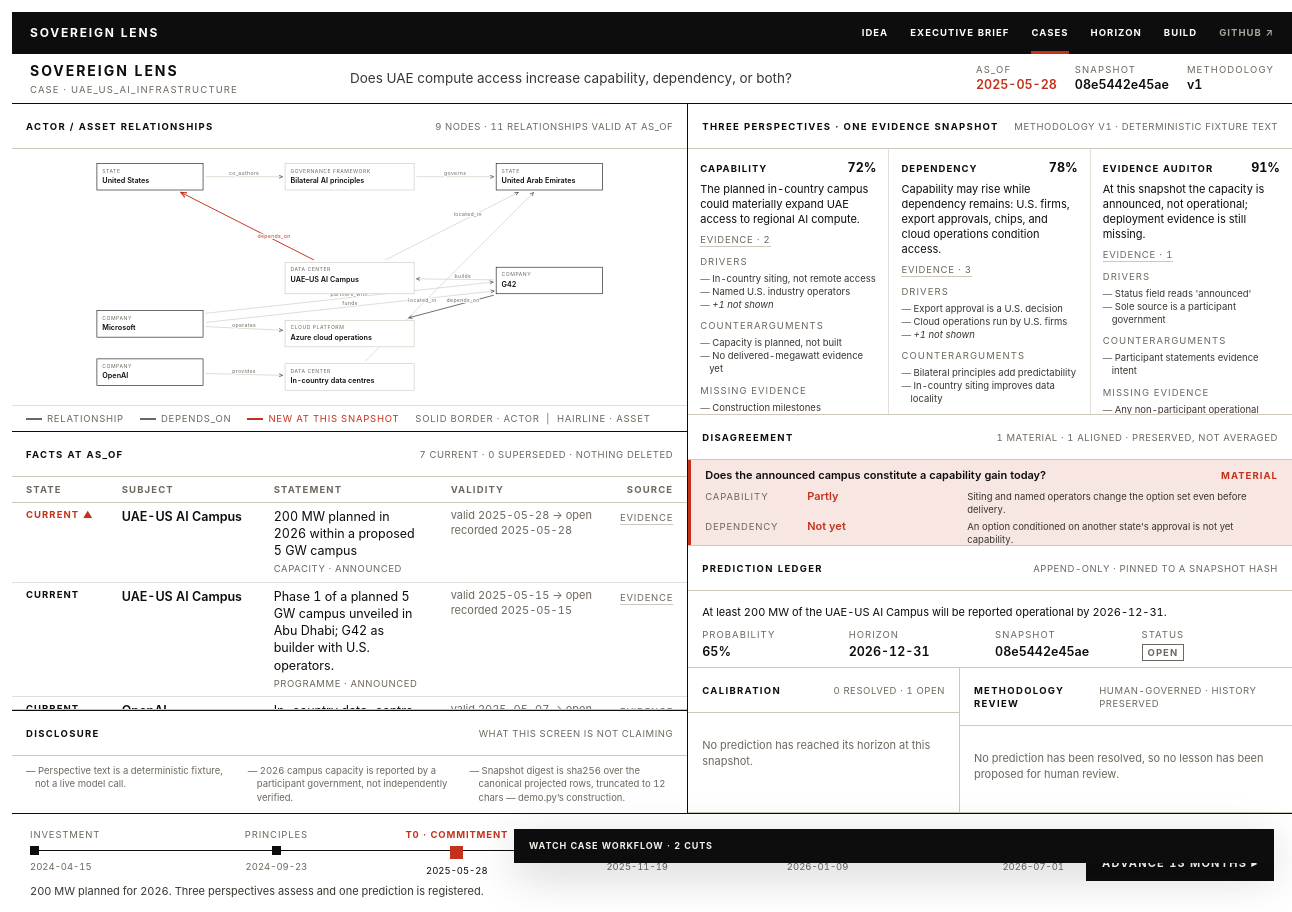
Test: scrubbing › reaches a pre-assessment date where no perspective exists yet
Click the button with aria-label "Set as_of to 2024-09-23" at (276, 853), box x1=210 y1=828 x2=342 y2=877
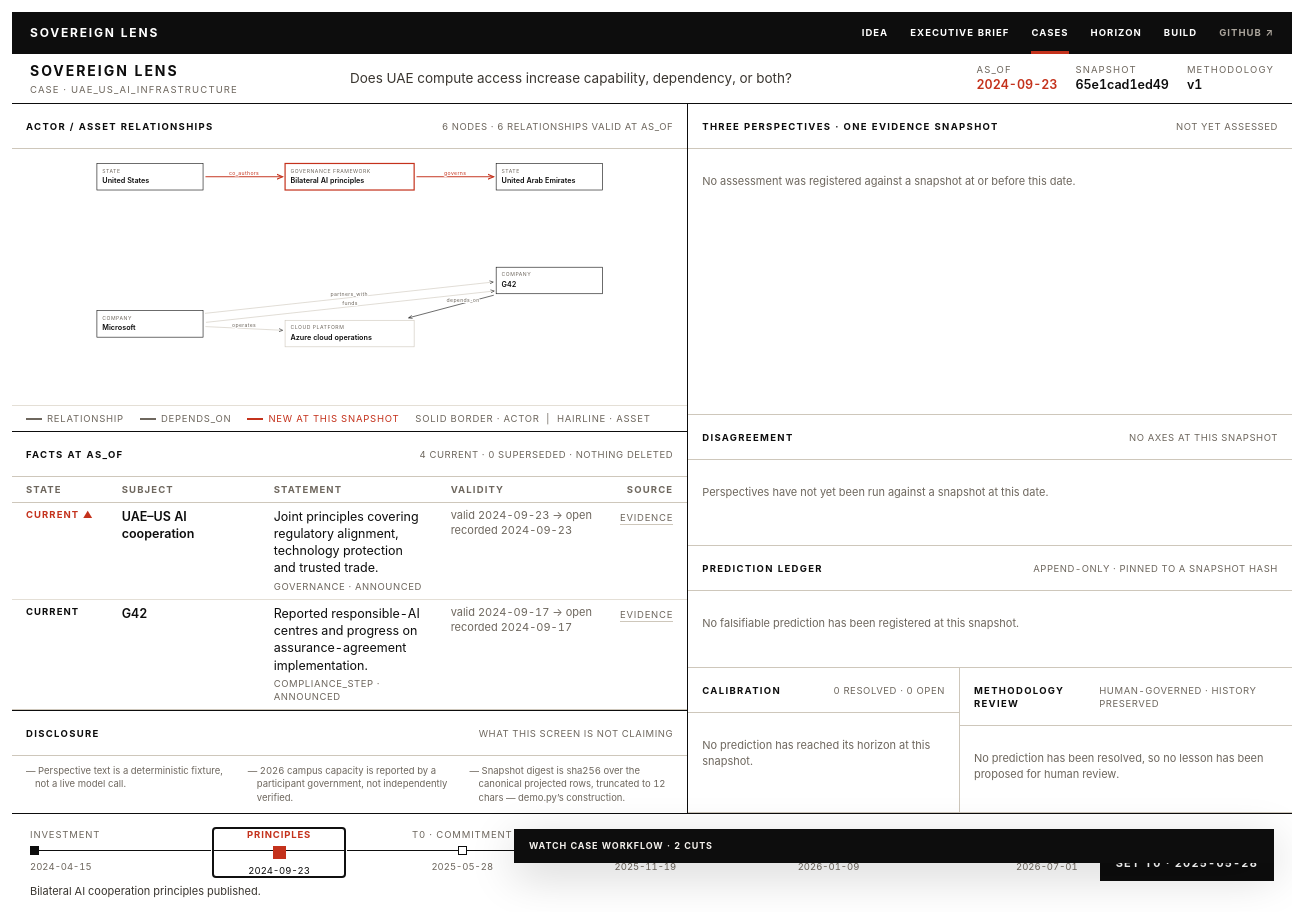
Expected: the text with test id "as-of" reads "2024-09-23", x1=976 y1=77 x2=1057 y2=92
Expected: the text "No assessment was registered" is shown, x1=702 y1=174 x2=1075 y2=188
Expected: the element with test id "prediction" is gone
